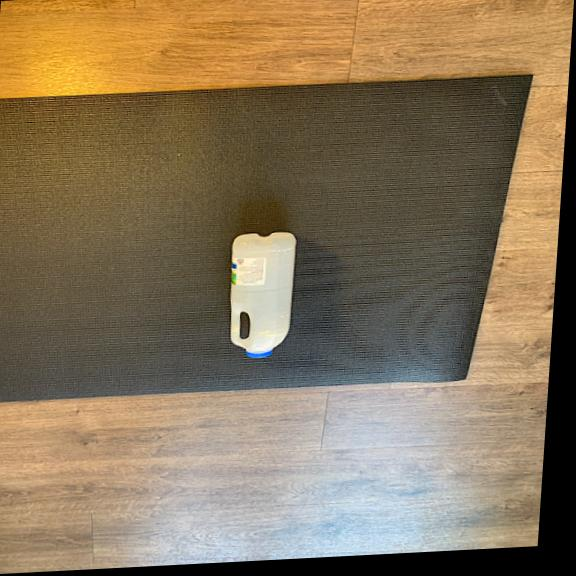Plastik: (215, 222, 303, 360)
